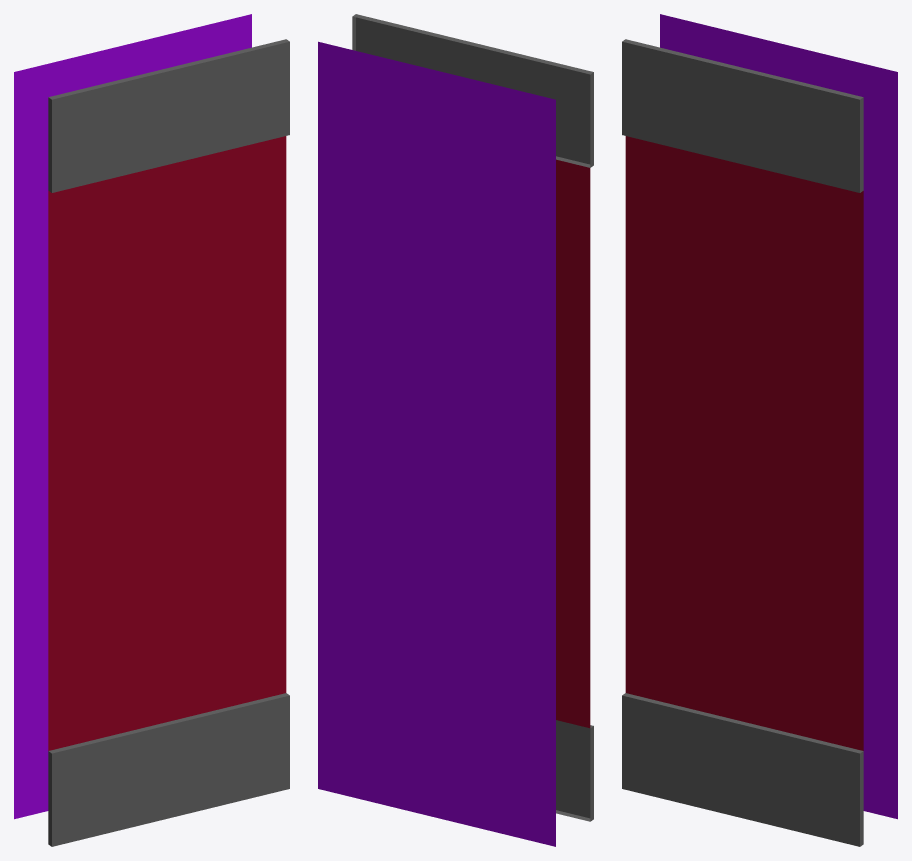
The model's file is Wall_01_1x3.fbx.
3 renders of one model, left to right at view 1: azimuth 30°, elevation 25°; view 2: azimuth 150°, elevation 25°; view 3: azimuth 330°, elevation 25°, orthographic.
Visible parts, largest first — view 1: Wall_01_1x3; view 2: Wall_01_1x3; view 3: Wall_01_1x3.
Boxes of the visible parts, bbox=[...] form: Wall_01_1x3: bbox=[14, 14, 289, 846]; Wall_01_1x3: bbox=[318, 14, 593, 846]; Wall_01_1x3: bbox=[622, 14, 897, 846].
Bounding box in the file's own units: 1 × 3 × 0.275.
